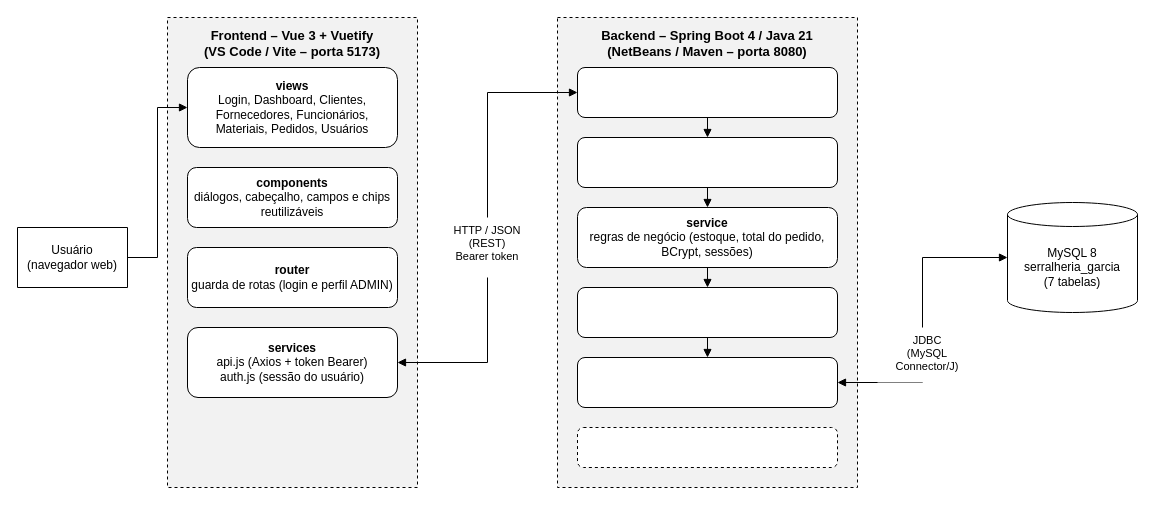
This 1155x505 diagram has some shape labels left out. Here are the shapes that lost their labels. From the top down, the centre of each, then its label:
At (707,92): "config AuthInterceptor (valida token e perfil)".
At (707,162): "controller @RestController – rotas /api/...".
At (707,312): "repository Spring Data JPA (JpaRepository)".
At (707,382): "domain entidades JPA – Hibernate (ORM)".
At (707,447): "dto | exception (ApiExceptionHandler)".
